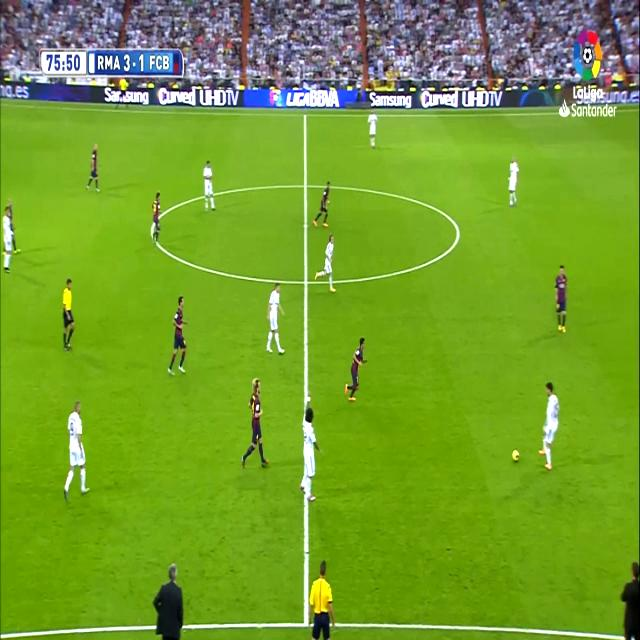halfcircle_bottom: (300, 266, 312, 296)
halfcircle_top: (300, 172, 311, 197)
midline_bottom_intersection: (298, 605, 314, 633)
midline_top_intersection: (300, 108, 310, 124)
